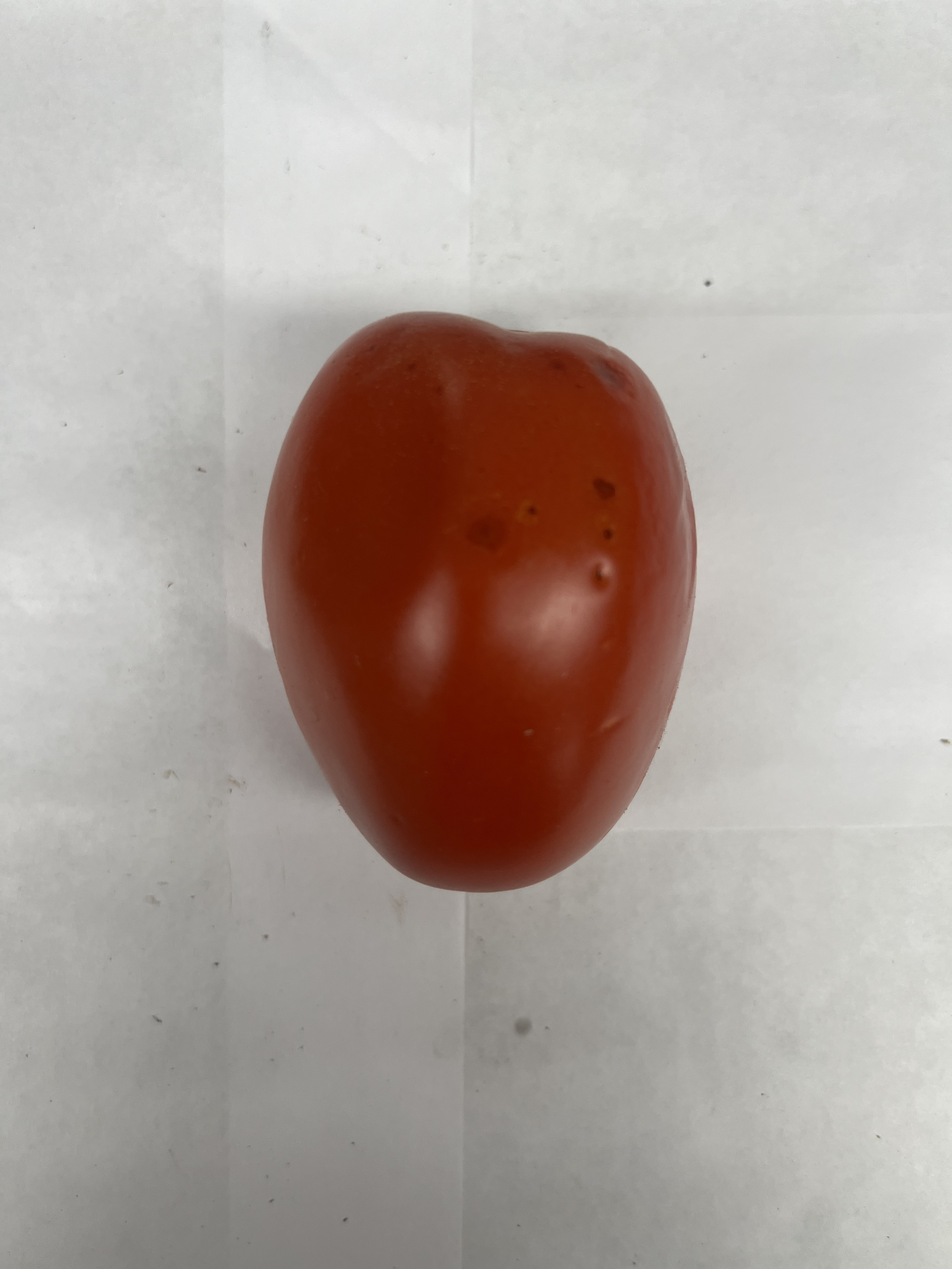produce: (257, 306, 706, 900)
